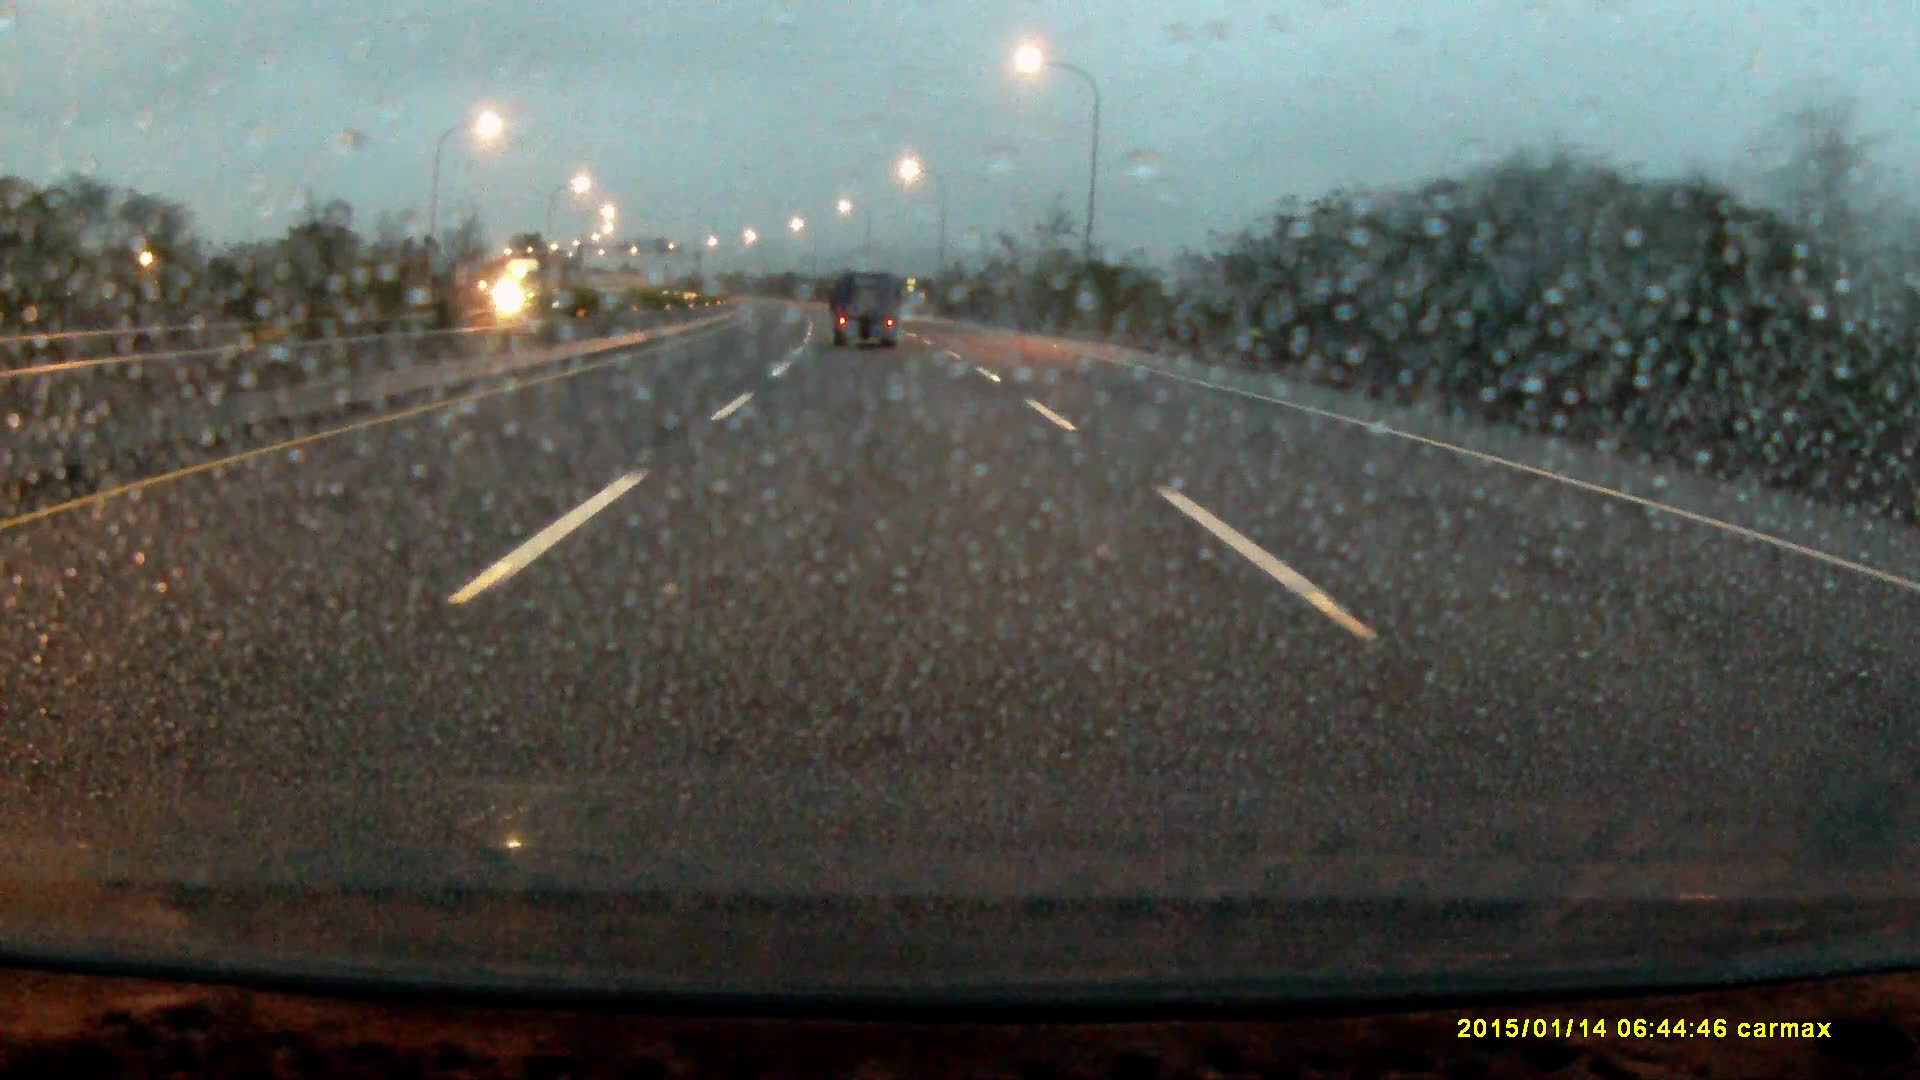vehicle: (489, 253, 582, 328), (833, 272, 903, 351)
